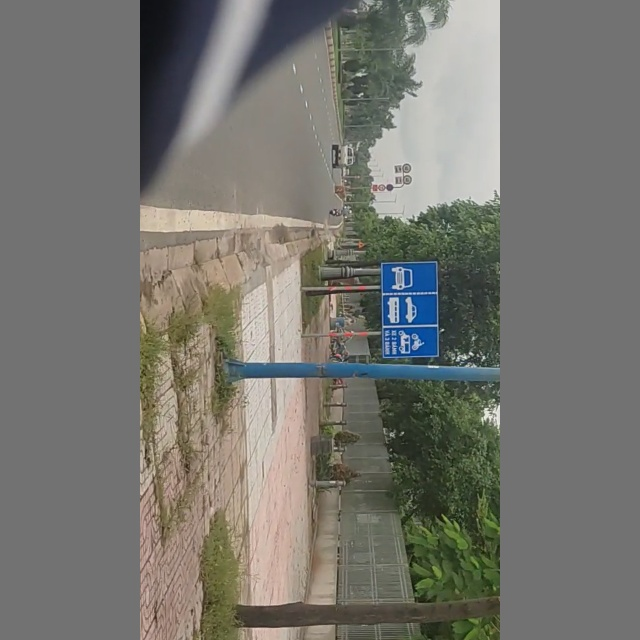R.415a: (379, 261, 440, 359)
